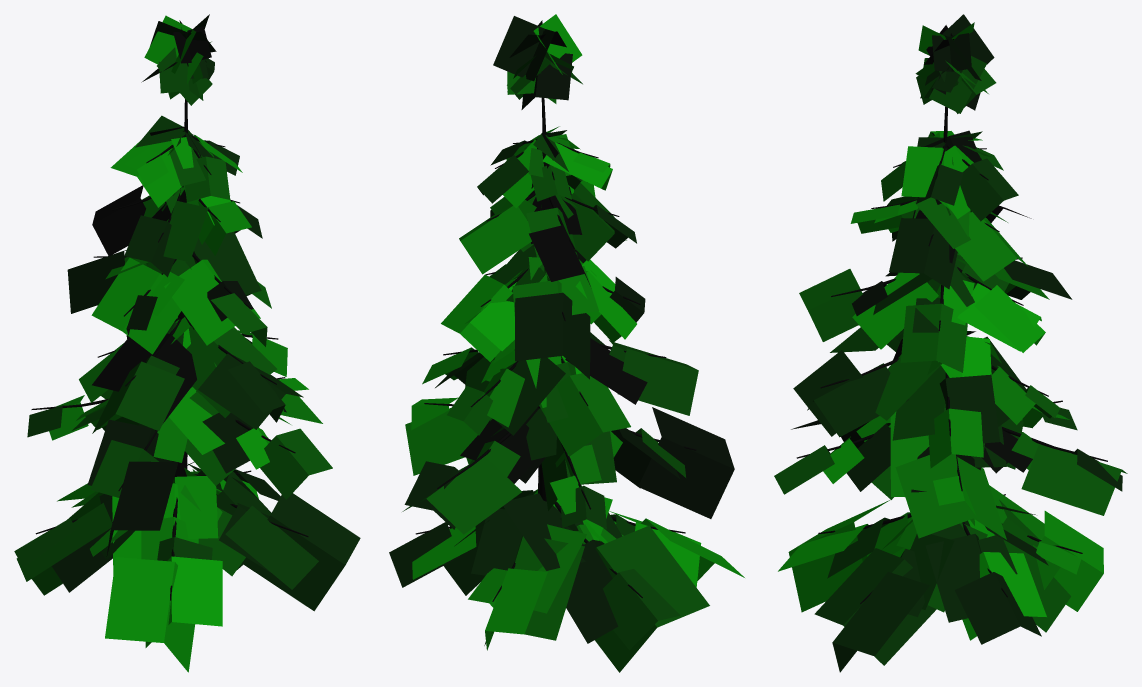
File: ProcPine_03.fbx
The picture shows the model from 3 angles, left to right: view 1: azimuth 30°, elevation 25°; view 2: azimuth 150°, elevation 25°; view 3: azimuth 270°, elevation 25°; orthographic projection. The views are drawn at different scales.
Visible parts, largest first — view 1: ProcPine_03_LOD0; view 2: ProcPine_03_LOD0; view 3: ProcPine_03_LOD0.
Part boxes in pixels (x1,y1,x2,y2): ProcPine_03_LOD0: [14, 14, 360, 672]; ProcPine_03_LOD0: [389, 14, 744, 672]; ProcPine_03_LOD0: [774, 14, 1127, 672].
Size of what is drawn, in the model's own units: 297 by 554 by 285.
